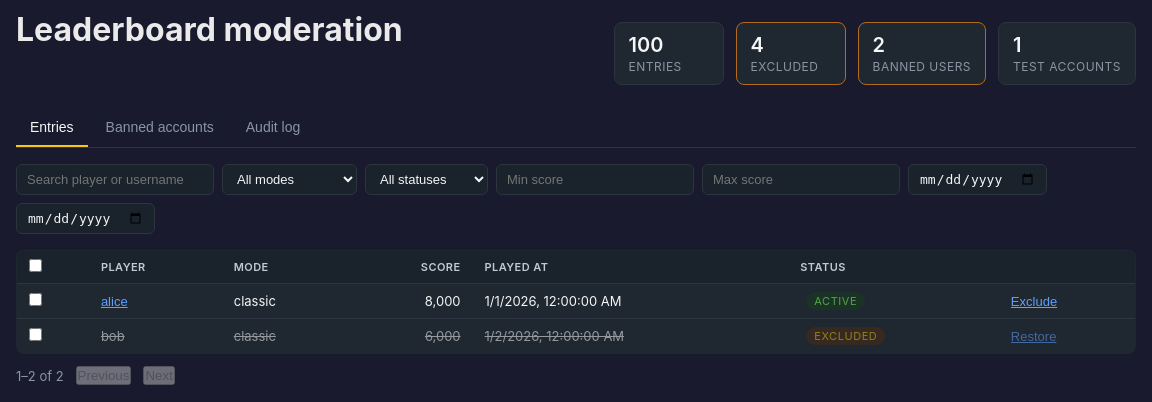
Test: AdminLeaderboardPage › switches to audit tab and shows empty state
Expected: the button "alice" is shown, [101,294,128,309]
Click the tab "Audit log".
click(273, 128)  # box [232,109,314,147]
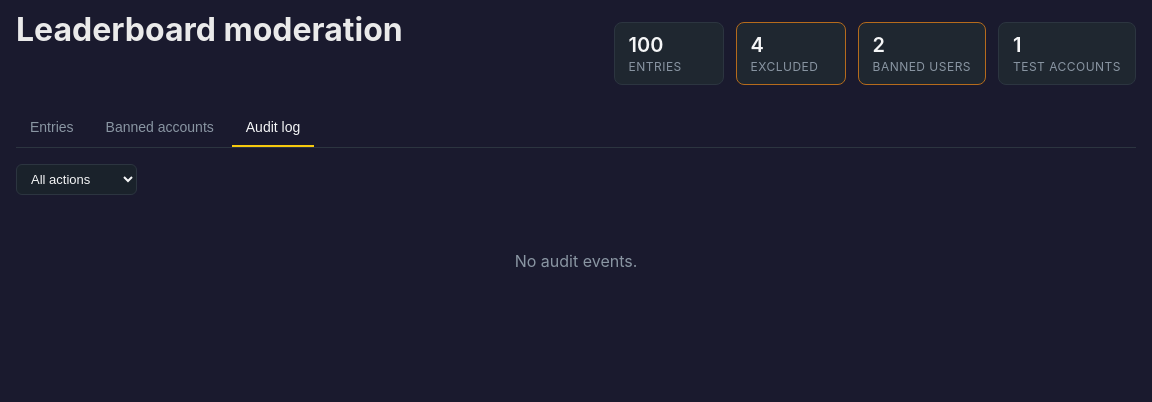
Result: the text "No audit events." is shown at [515,251,637,271]
